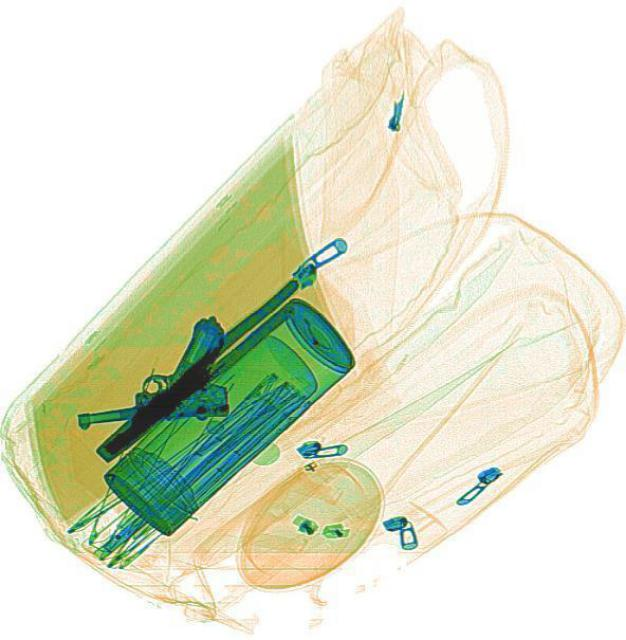Gun: (64, 312, 231, 426)
Pliers: (86, 274, 311, 468)
